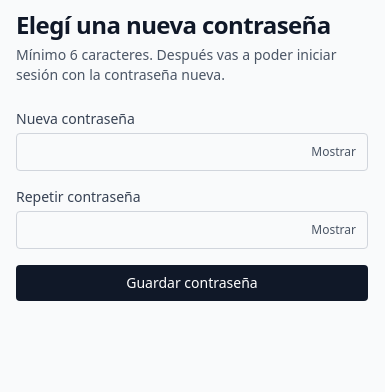
Test: ResetPasswordPage · elegir la nueva contraseña › weak_password: mensaje propio, sin texto crudo
Type "nueva123" into the password field labelled "Nueva contraseña".
click(192, 152); type("nueva123")  # box [16,133,368,171]
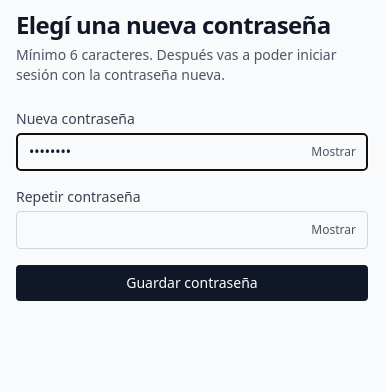
Type "nueva123" into the password field labelled "Repetir contraseña".
click(192, 230); type("nueva123")  # box [16,211,368,249]
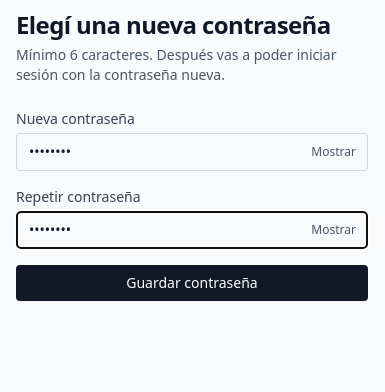
Click the button "Guardar contraseña".
click(192, 283)  # box [16,265,368,301]
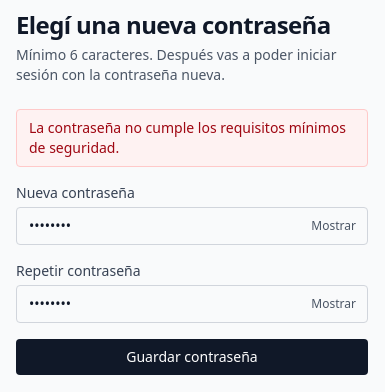
Expected: the text "La contraseña no cumple los requisitos mínimos de seguridad." is shown, [16,109,368,167]
